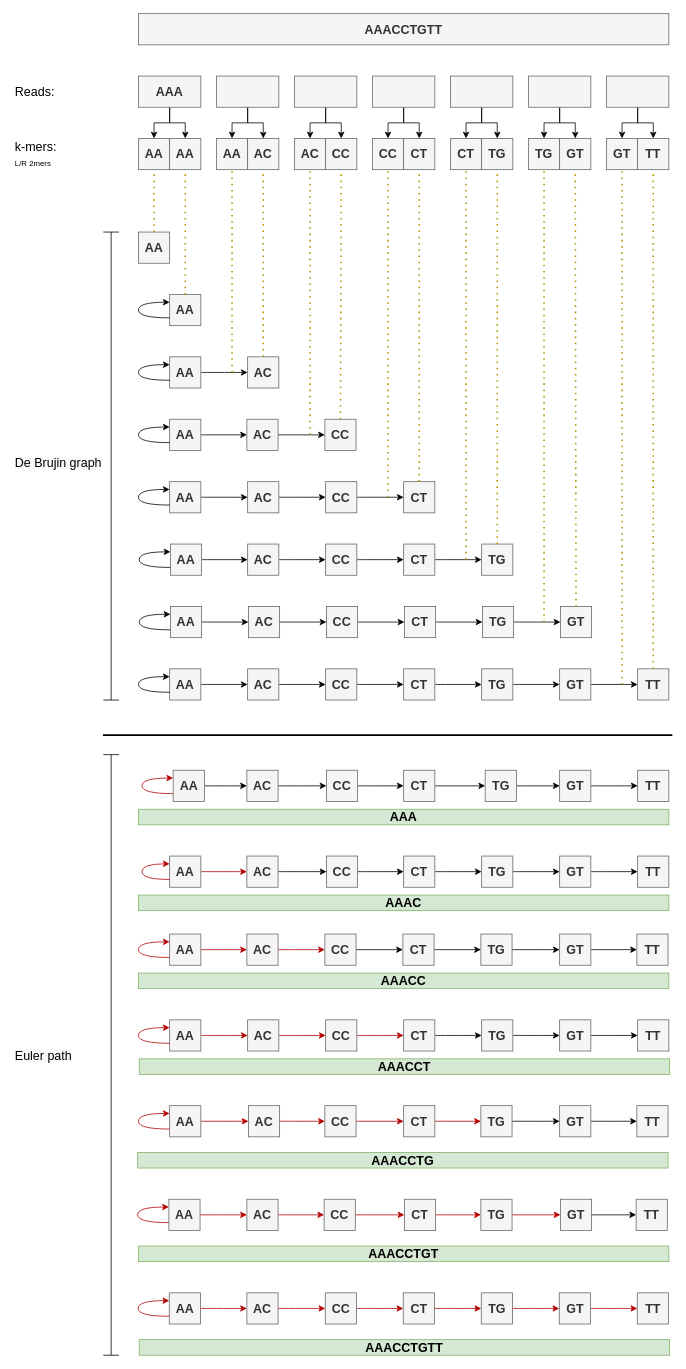
This 686x1369 diagram has some shape labels left out. The centre of each missing label's shape, as x and y in pixels:
AAC: the point at 247,91
ACC: the point at 325,91
CCT: the point at 403,91
CTG: the point at 481,91
GTT: the point at 637,91
TGT: the point at 559,91
